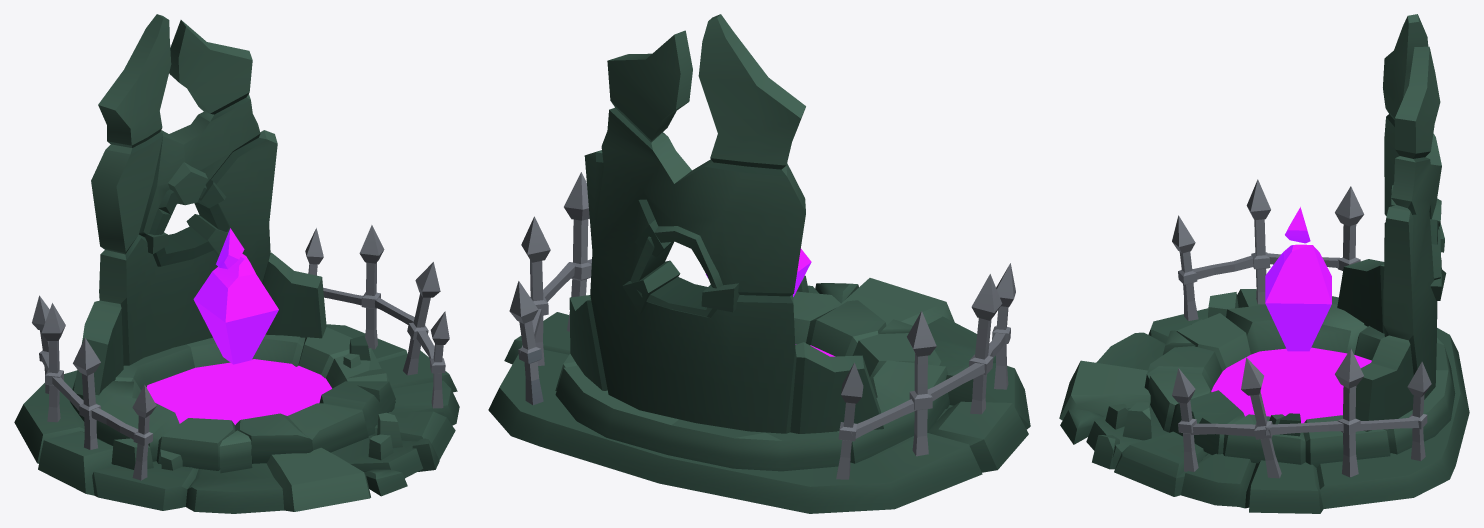
Rendered from Magic Thing.fbx.
3 views of the same model, side by side, from view 1: azimuth 30°, elevation 25°; view 2: azimuth 150°, elevation 25°; view 3: azimuth 270°, elevation 25° (orthographic). The views are drawn at different scales.
Parts seen in each view (by area): view 1: Cylinder.290, Cylinder.390; view 2: Cylinder.290; view 3: Cylinder.290, Cylinder.390.
Boxes of the visible parts, x1,y1,x2,y2 form: Cylinder.290: (14, 14, 459, 513); Cylinder.390: (193, 228, 278, 364); Cylinder.290: (488, 14, 1030, 513); Cylinder.290: (1059, 14, 1469, 513); Cylinder.390: (1265, 207, 1331, 351).
Size of the model in its own units: 1.48 by 1.34 by 1.27.
